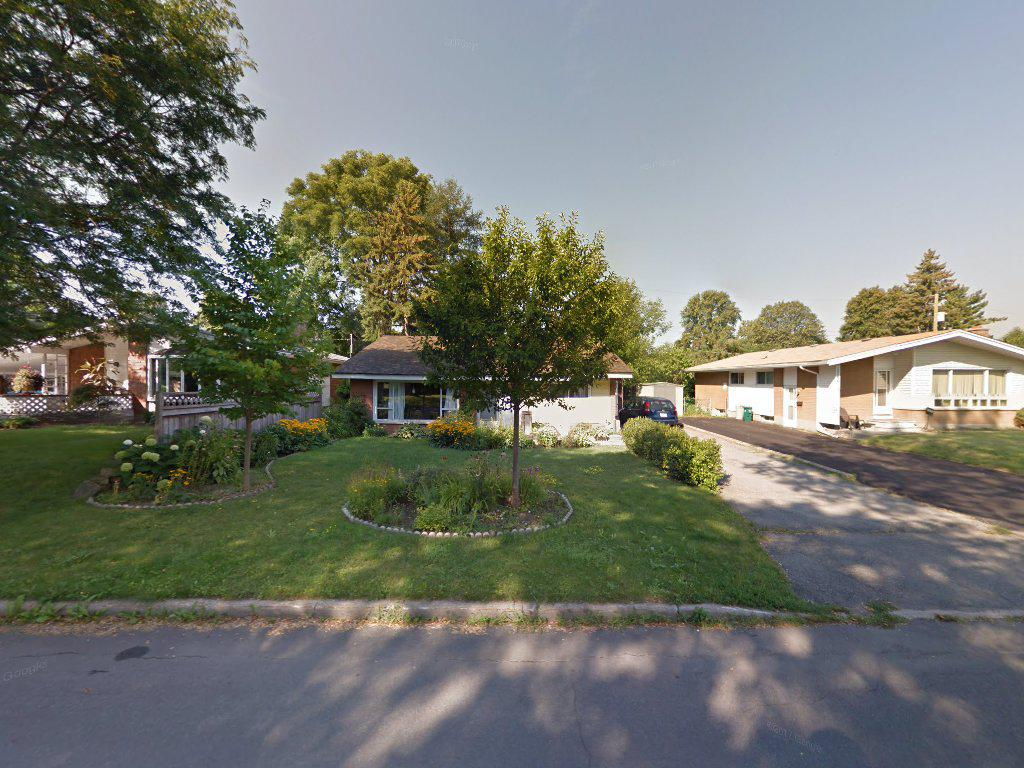trunk: (509, 409, 526, 511)
